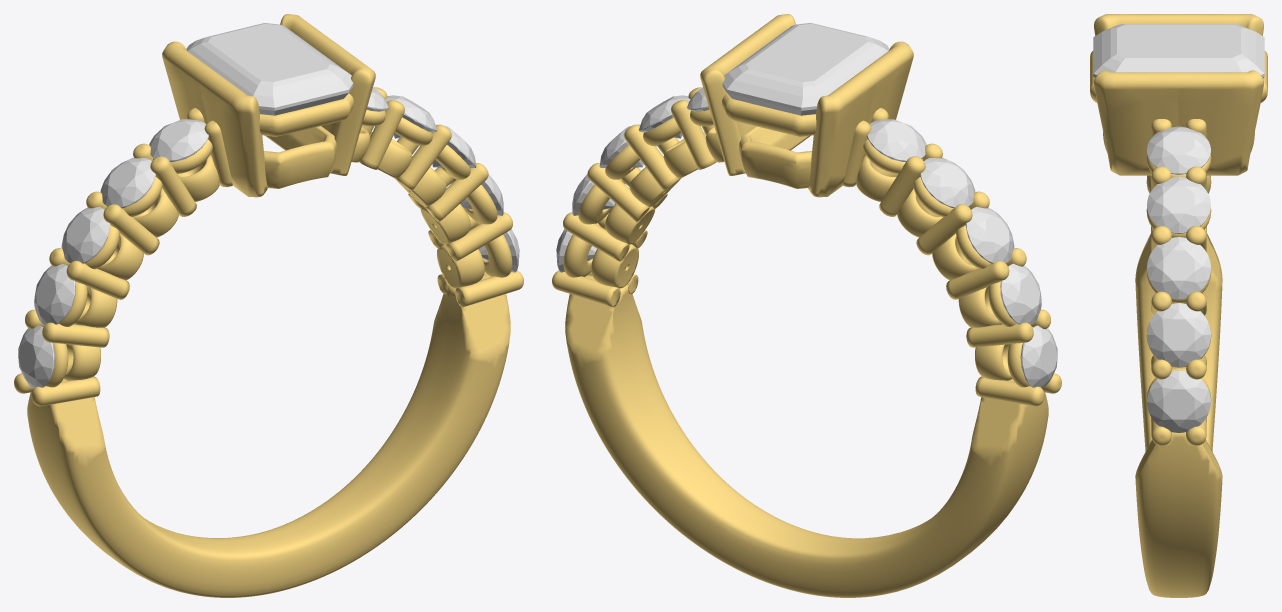
File: diamond-emerald-yellowgold-halfmoonbezel-straighttaperedband-11stone.glb
3 views of the same model, side by side, from view 1: azimuth 30°, elevation 25°; view 2: azimuth 150°, elevation 25°; view 3: azimuth 270°, elevation 25° (orthographic).
Parts seen in each view (by area): view 1: metal.003, stone.002, side.024, side.025, side.023, side.026, side.002, side.028; view 2: metal.003, stone.002, side.024, side.025, side.023, side.026, side.002, side.028; view 3: metal.003, stone.002, side.030, side.029, side.031, side.028, side.027.
Part boxes in pixels (x1,y1,x2,y2): metal.003: (14, 14, 523, 597); stone.002: (186, 23, 353, 115); side.024: (61, 206, 110, 263); side.025: (100, 158, 155, 208); side.023: (34, 263, 75, 324); side.026: (149, 119, 208, 161); side.002: (18, 325, 55, 388); side.028: (385, 95, 437, 138); metal.003: (552, 14, 1061, 597); stone.002: (722, 23, 889, 115); side.024: (965, 206, 1014, 263); side.025: (920, 158, 975, 208); side.023: (1000, 263, 1041, 324); side.026: (867, 119, 926, 161); side.002: (1020, 325, 1057, 388); side.028: (638, 95, 690, 138); metal.003: (1090, 14, 1267, 597); stone.002: (1093, 24, 1264, 78); side.030: (1147, 303, 1210, 366); side.029: (1147, 237, 1210, 299); side.031: (1147, 370, 1210, 432); side.028: (1147, 177, 1210, 233); side.027: (1147, 126, 1210, 174).
Size of the model in its own units: 22.03 by 22.95 by 6.94.
